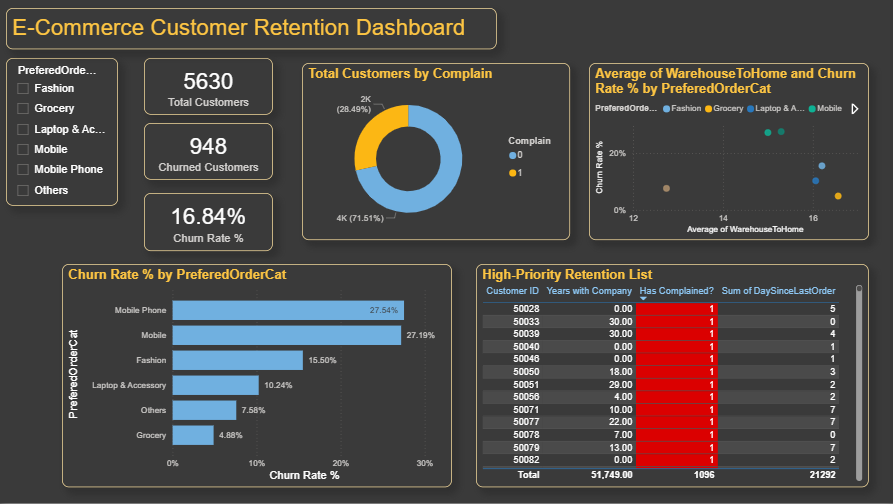

This screenshot's page, from the dashboard's own definition file:
{"tool":"powerbi","page":{"name":"Churn Overview","canvas":[1280,720],"ordinal":0},"visuals":[{"type":"card","fields":{"Values":["E Comm (2).Total Customers"]},"box":[207.1,84.3,184.3,81.4],"z":0},{"type":"card","fields":{"Values":["E Comm (2).Churned Customers"]},"box":[207.1,177.1,184.3,81.4],"z":1000},{"type":"card","fields":{"Values":["E Comm (2).Churn Rate %"]},"box":[207.1,277.1,184.3,82.9],"z":2000},{"type":"clusteredBarChart","fields":{"Category":["E Comm (2).PreferedOrderCat"],"Y":["E Comm (2).Churn Rate %"]},"box":[90,378.6,557.1,318.6],"z":3000},{"type":"donutChart","fields":{"Category":["E Comm (2).Complain"],"Y":["E Comm (2).Total Customers"]},"box":[432.9,91.4,382.9,252.9],"z":4000},{"type":"scatterChart","fields":{"Y":["E Comm (2).Churn Rate %"],"X":["Avg(E Comm (2).WarehouseToHome)"],"Series":["E Comm (2).PreferedOrderCat"]},"box":[842.9,91.4,400,252.9],"z":5000},{"type":"tableEx","title":"High-Priority Retention List","fields":{"Values":["E Comm (2).CustomerID","Sum(E Comm (2).Tenure)","Sum(E Comm (2).Complain)","Sum(E Comm (2).DaySinceLastOrder)"]},"box":[681.4,378.6,561.4,318.6],"z":6000},{"type":"slicer","fields":{"Values":["E Comm (2).PreferedOrderCat"]},"box":[10,84.3,160,211.4],"z":7000},{"type":"textbox","box":[10,12.9,701.4,58.6],"z":8000}]}

Visuals, with their boxes in screenshot pixels (x1, y1, x2, y2), scaled from the page's 1280x720 canvas onto the 893x504 screenshot:
card - E Comm (2).Total Customers: rect(144, 59, 273, 116)
card - E Comm (2).Churned Customers: rect(144, 124, 273, 181)
card - E Comm (2).Churn Rate %: rect(144, 194, 273, 252)
clusteredBarChart - E Comm (2).PreferedOrderCat x E Comm (2).Churn Rate %: rect(63, 265, 451, 488)
donutChart - E Comm (2).Complain x E Comm (2).Total Customers: rect(302, 64, 569, 241)
scatterChart - E Comm (2).Churn Rate % x Avg(E Comm (2).WarehouseToHome): rect(588, 64, 867, 241)
"High-Priority Retention List" tableEx: rect(475, 265, 867, 488)
slicer - E Comm (2).PreferedOrderCat: rect(7, 59, 119, 207)
textbox: rect(7, 9, 496, 50)
